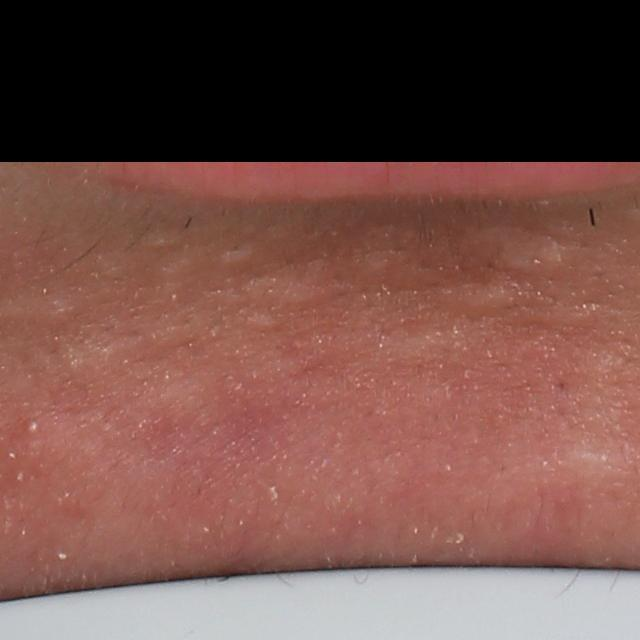comedo: (17, 412, 48, 444)
hypertrophic_scar: (234, 258, 343, 311), (459, 226, 585, 271), (438, 280, 518, 316), (558, 445, 621, 479), (147, 253, 201, 281), (217, 240, 262, 266), (135, 232, 187, 253)
